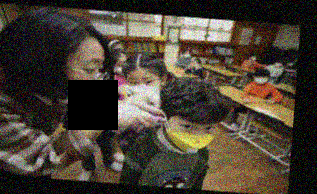with_mask: (62, 54, 106, 108), (162, 114, 216, 154), (124, 71, 161, 97), (111, 57, 126, 76), (252, 73, 269, 87), (273, 60, 283, 69), (182, 51, 190, 59), (250, 55, 257, 62)
